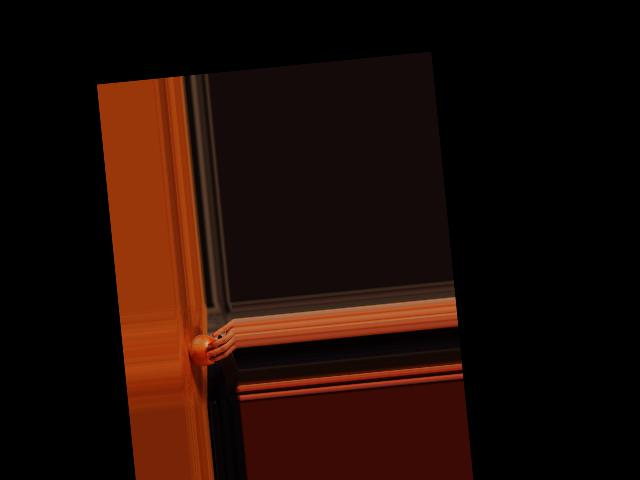onion: (186, 333, 220, 367)
